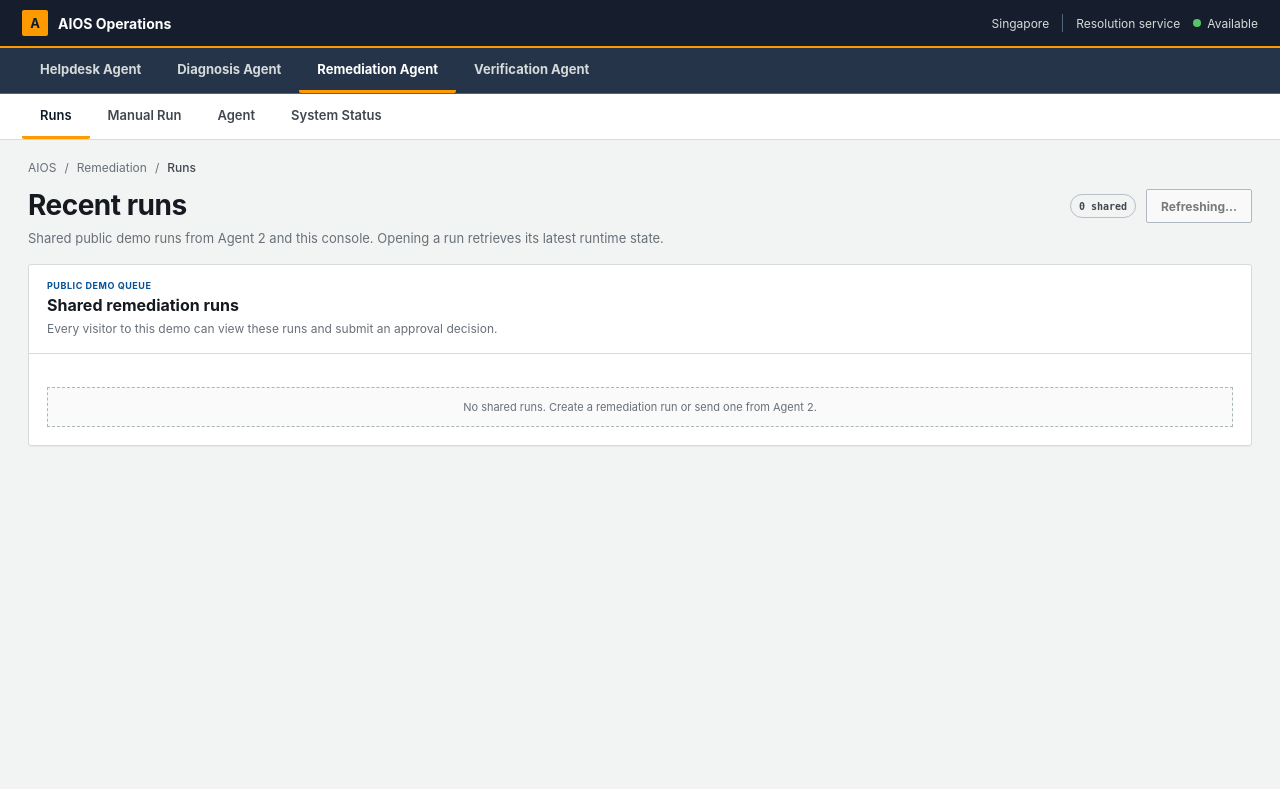
Scenario: shared agent shell › returns to the Runs list from the shared home action
Click the tab "Manual Run". click: point(144, 116)
box: left=90, top=94, right=199, bottom=139
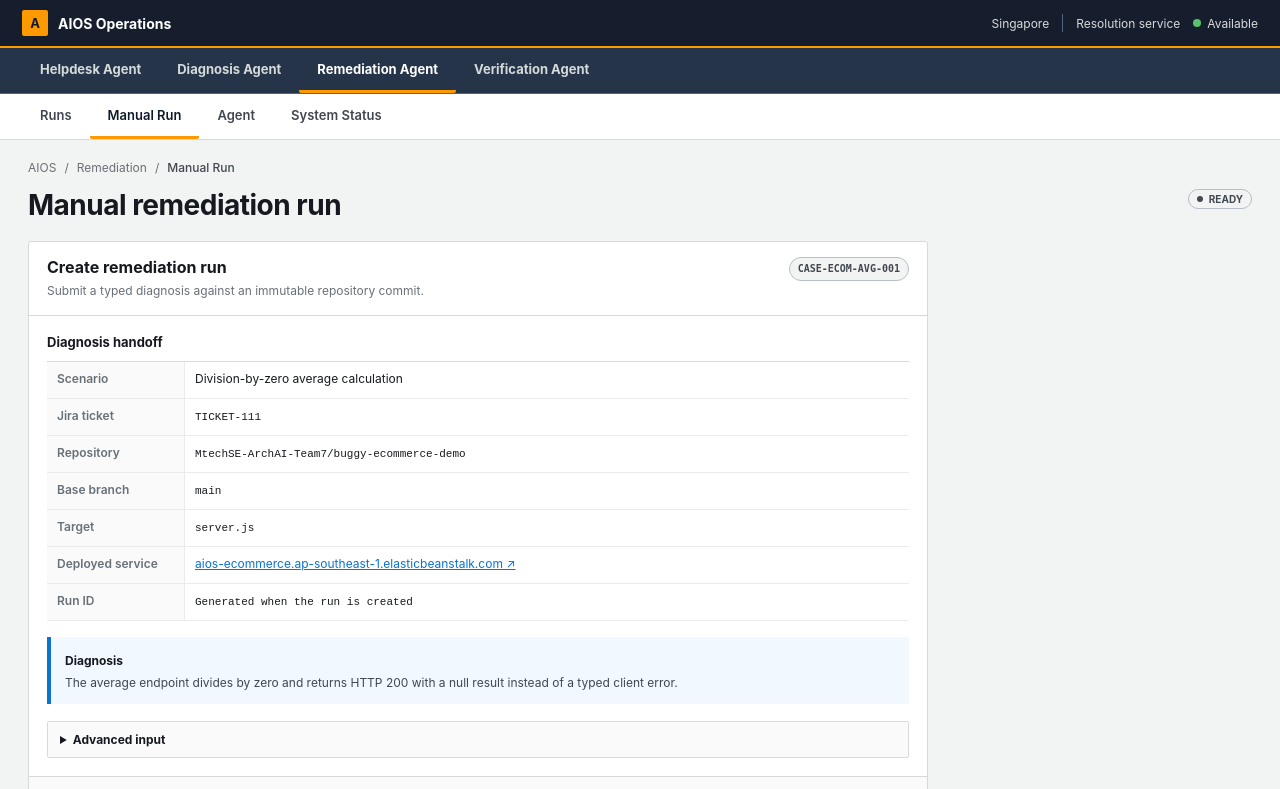
Check: the heading "Manual remediation run" is shown, box left=28, top=189, right=341, bottom=223
Click the link with aria-label "AIOS Operations home". click: point(97, 23)
box: left=22, top=10, right=171, bottom=36
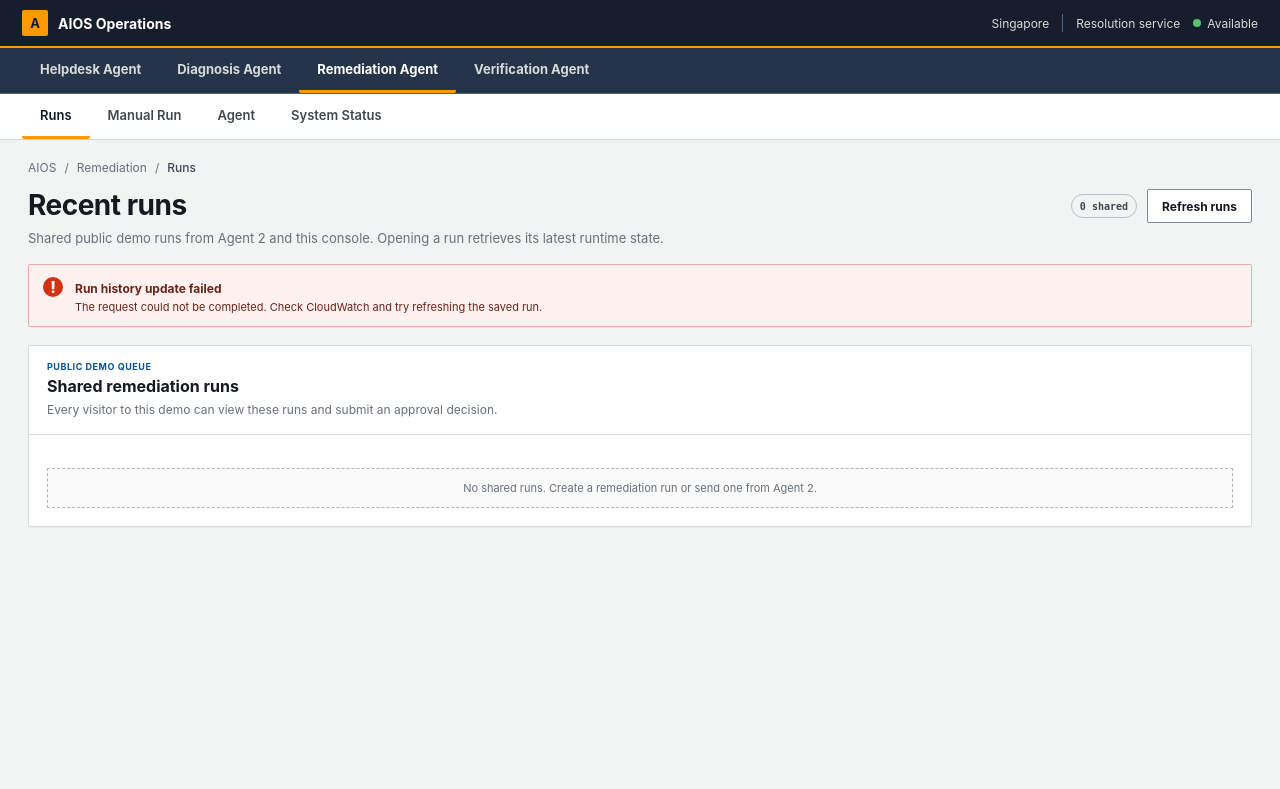
Check: the heading "Recent runs" is shown, box left=28, top=188, right=187, bottom=222
